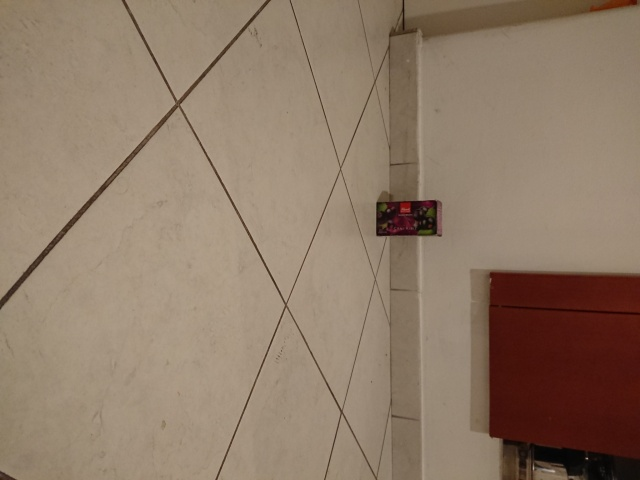Franck Black Currant Tea 60g: (373, 198, 445, 238)
